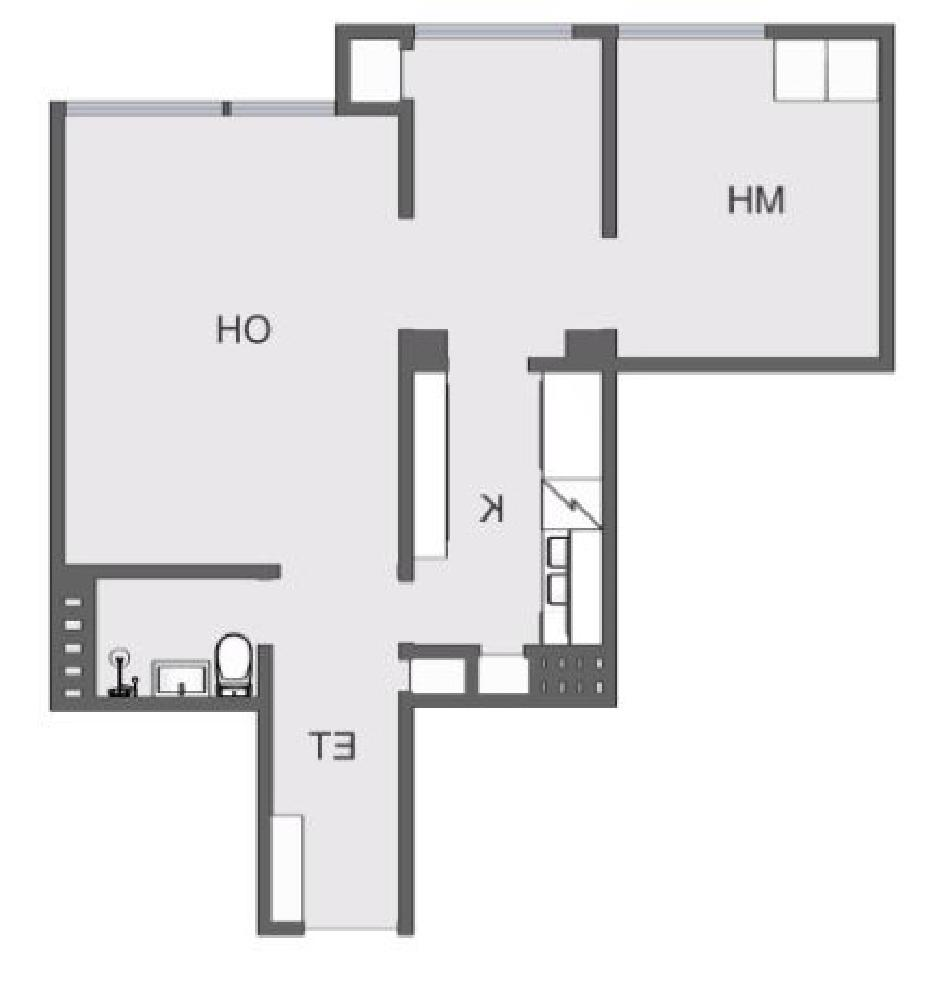window: (413, 20, 575, 47), (62, 95, 223, 119), (232, 100, 338, 122), (616, 24, 771, 38)
zone: (62, 111, 398, 565), (347, 34, 616, 365), (617, 40, 882, 357), (410, 373, 612, 698), (263, 562, 404, 928), (90, 573, 263, 701)
